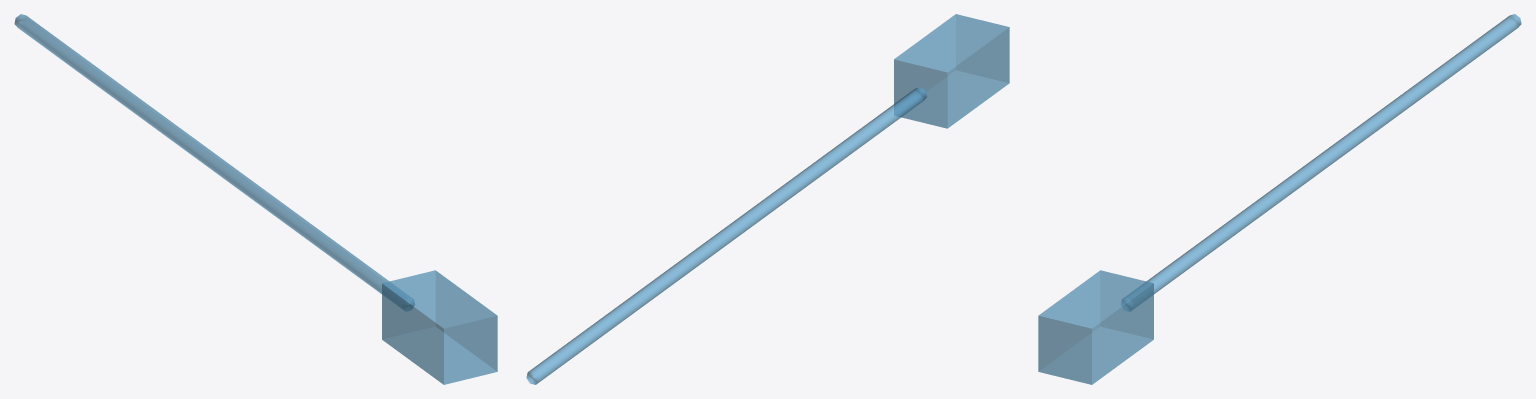
Rendered from gizmoScaleZ.fbx.
The picture shows the model from 3 angles, left to right: view 1: azimuth 30°, elevation 25°; view 2: azimuth 150°, elevation 25°; view 3: azimuth 330°, elevation 25°; orthographic projection.
Parts seen in each view (by area): view 1: gizmoScaleZ; view 2: gizmoScaleZ; view 3: gizmoScaleZ.
Part boxes in pixels (<box>): gizmoScaleZ: <box>14,14,497,384</box>; gizmoScaleZ: <box>526,14,1009,384</box>; gizmoScaleZ: <box>1038,14,1521,384</box>.
Size of the model in its own units: 2 by 2 by 29.
